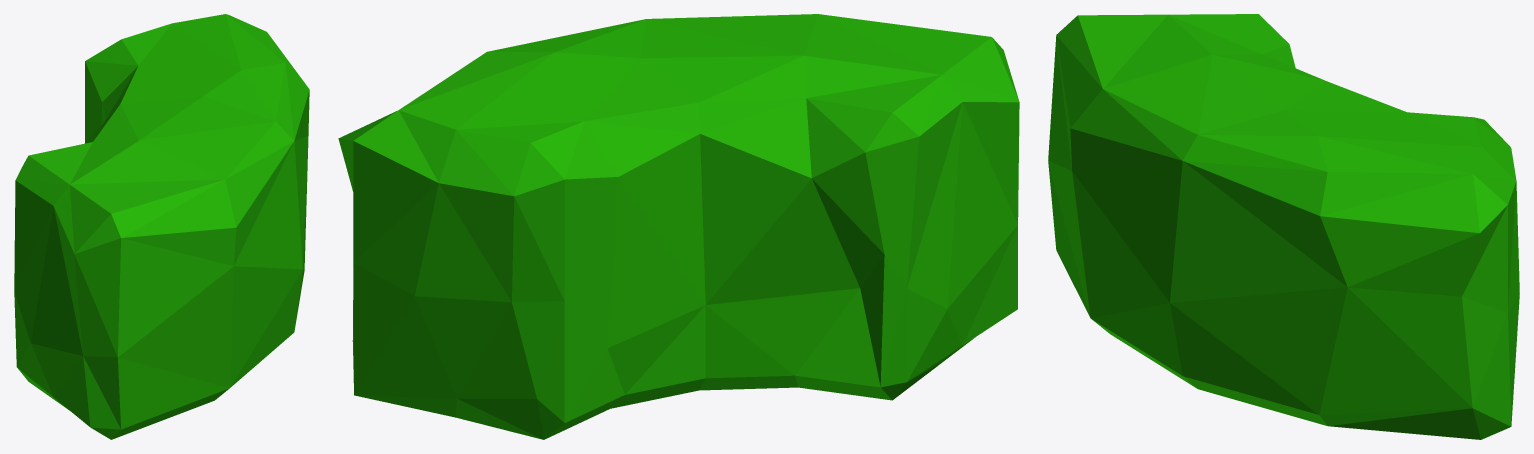
Rendered from Hedge_Bendy.fbx.
3 renders of one model, left to right at view 1: azimuth 30°, elevation 25°; view 2: azimuth 150°, elevation 25°; view 3: azimuth 270°, elevation 25°, orthographic. The views are drawn at different scales.
Parts seen in each view (by area): view 1: Container; view 2: Container; view 3: Container.
Part boxes in pixels (x1,y1,x2,y2): Container: (14, 14, 309, 439); Container: (338, 14, 1019, 439); Container: (1048, 14, 1519, 439).
Size of the model in its own units: 266 by 163 by 265.
